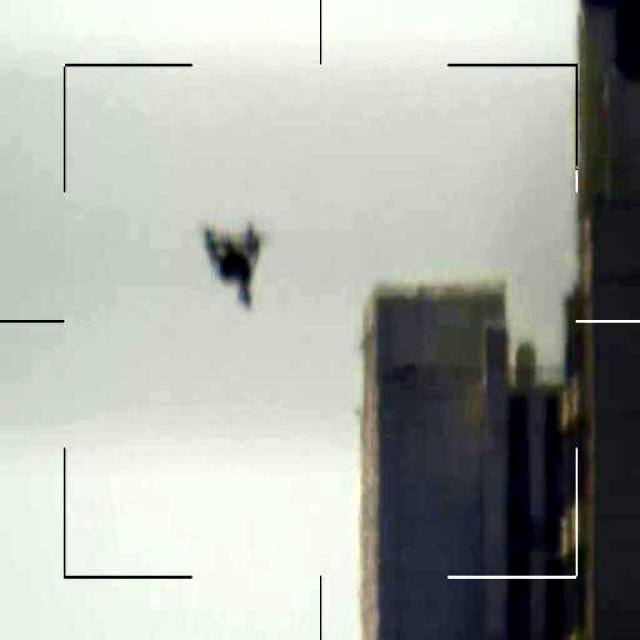bird: (200, 220, 268, 306)
